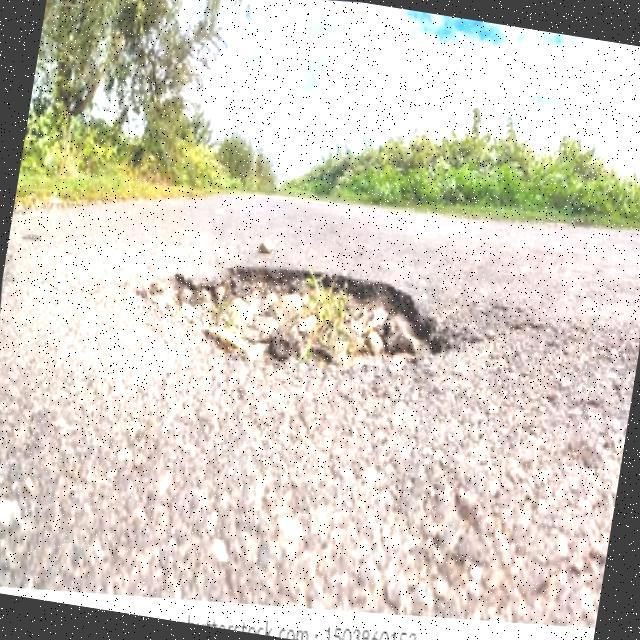Pothole: (143, 268, 450, 369)
